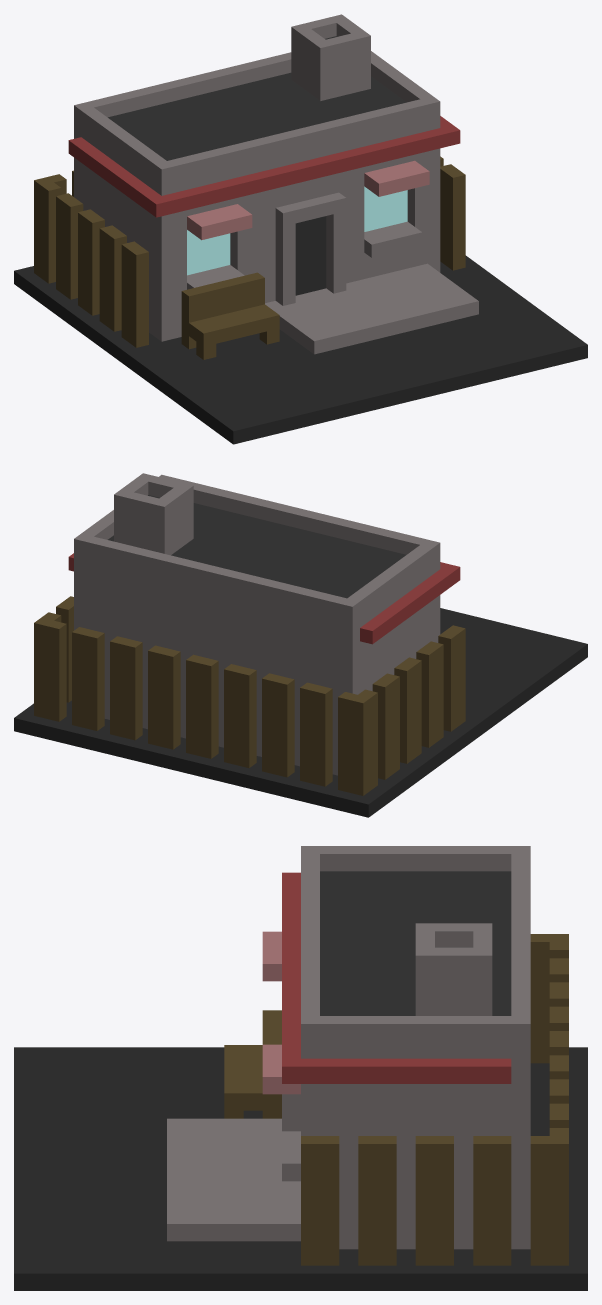
Rendered from shop1.obj.
3 renders of one model, top to bottom at view 1: azimuth 30°, elevation 25°; view 2: azimuth 150°, elevation 25°; view 3: azimuth 270°, elevation 25°, orthographic. The views are drawn at different scales.
Bounding box in the file's own units: 28 × 17 × 30.
1 material, 1 textured.
